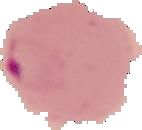parasitized: (10, 19, 127, 114), (9, 31, 73, 94)
